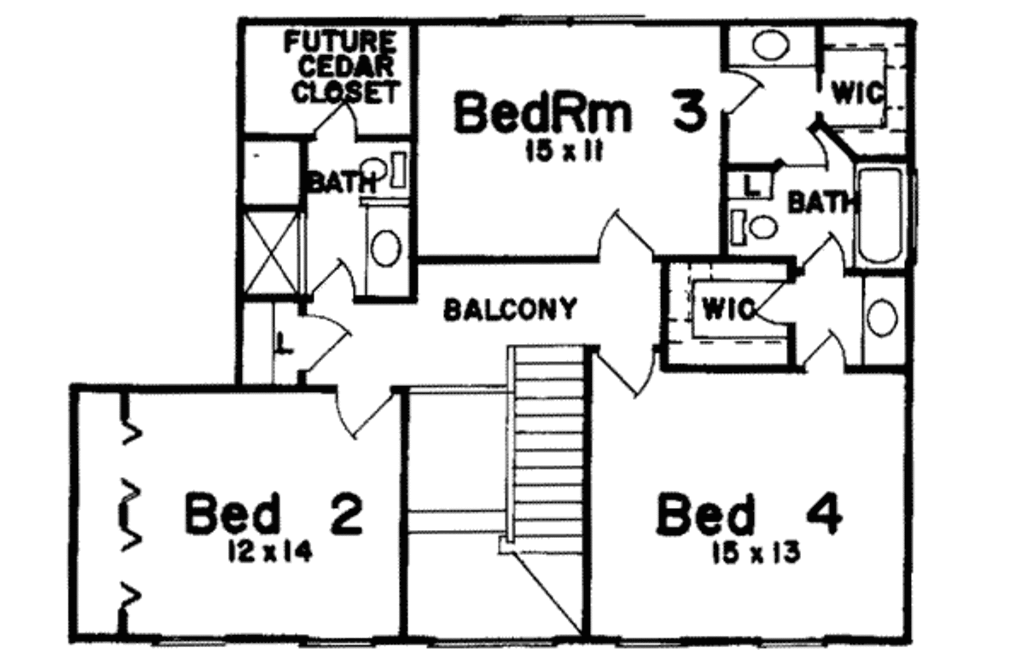door: (594, 207, 657, 266), (298, 310, 355, 370), (593, 346, 657, 399), (331, 386, 394, 437), (779, 130, 837, 175), (308, 255, 357, 306), (799, 229, 848, 279), (799, 326, 846, 377), (720, 70, 762, 123), (752, 281, 796, 327), (316, 103, 357, 148)
large_sink: (728, 203, 780, 253), (362, 148, 413, 192)
small_sink: (856, 270, 915, 372), (721, 22, 821, 72), (367, 201, 411, 303)
stairs: (498, 343, 588, 558)
tub: (852, 158, 909, 270)
